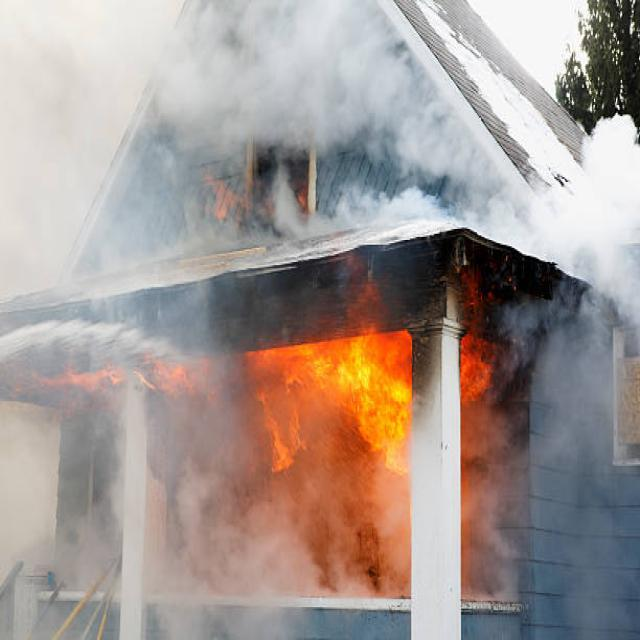Fire: (246, 330, 411, 604), (457, 285, 537, 605)
Smoke: (128, 0, 640, 294)
